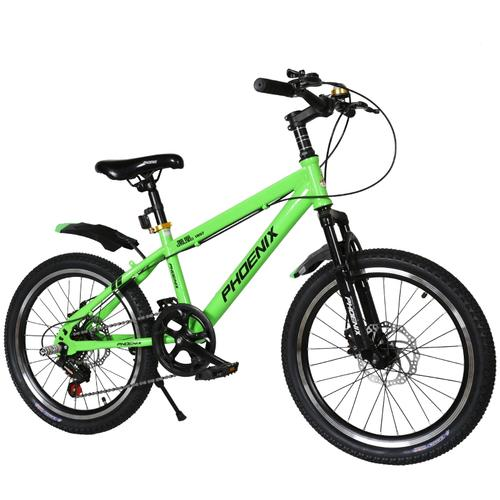单车: (6, 60, 500, 473)
